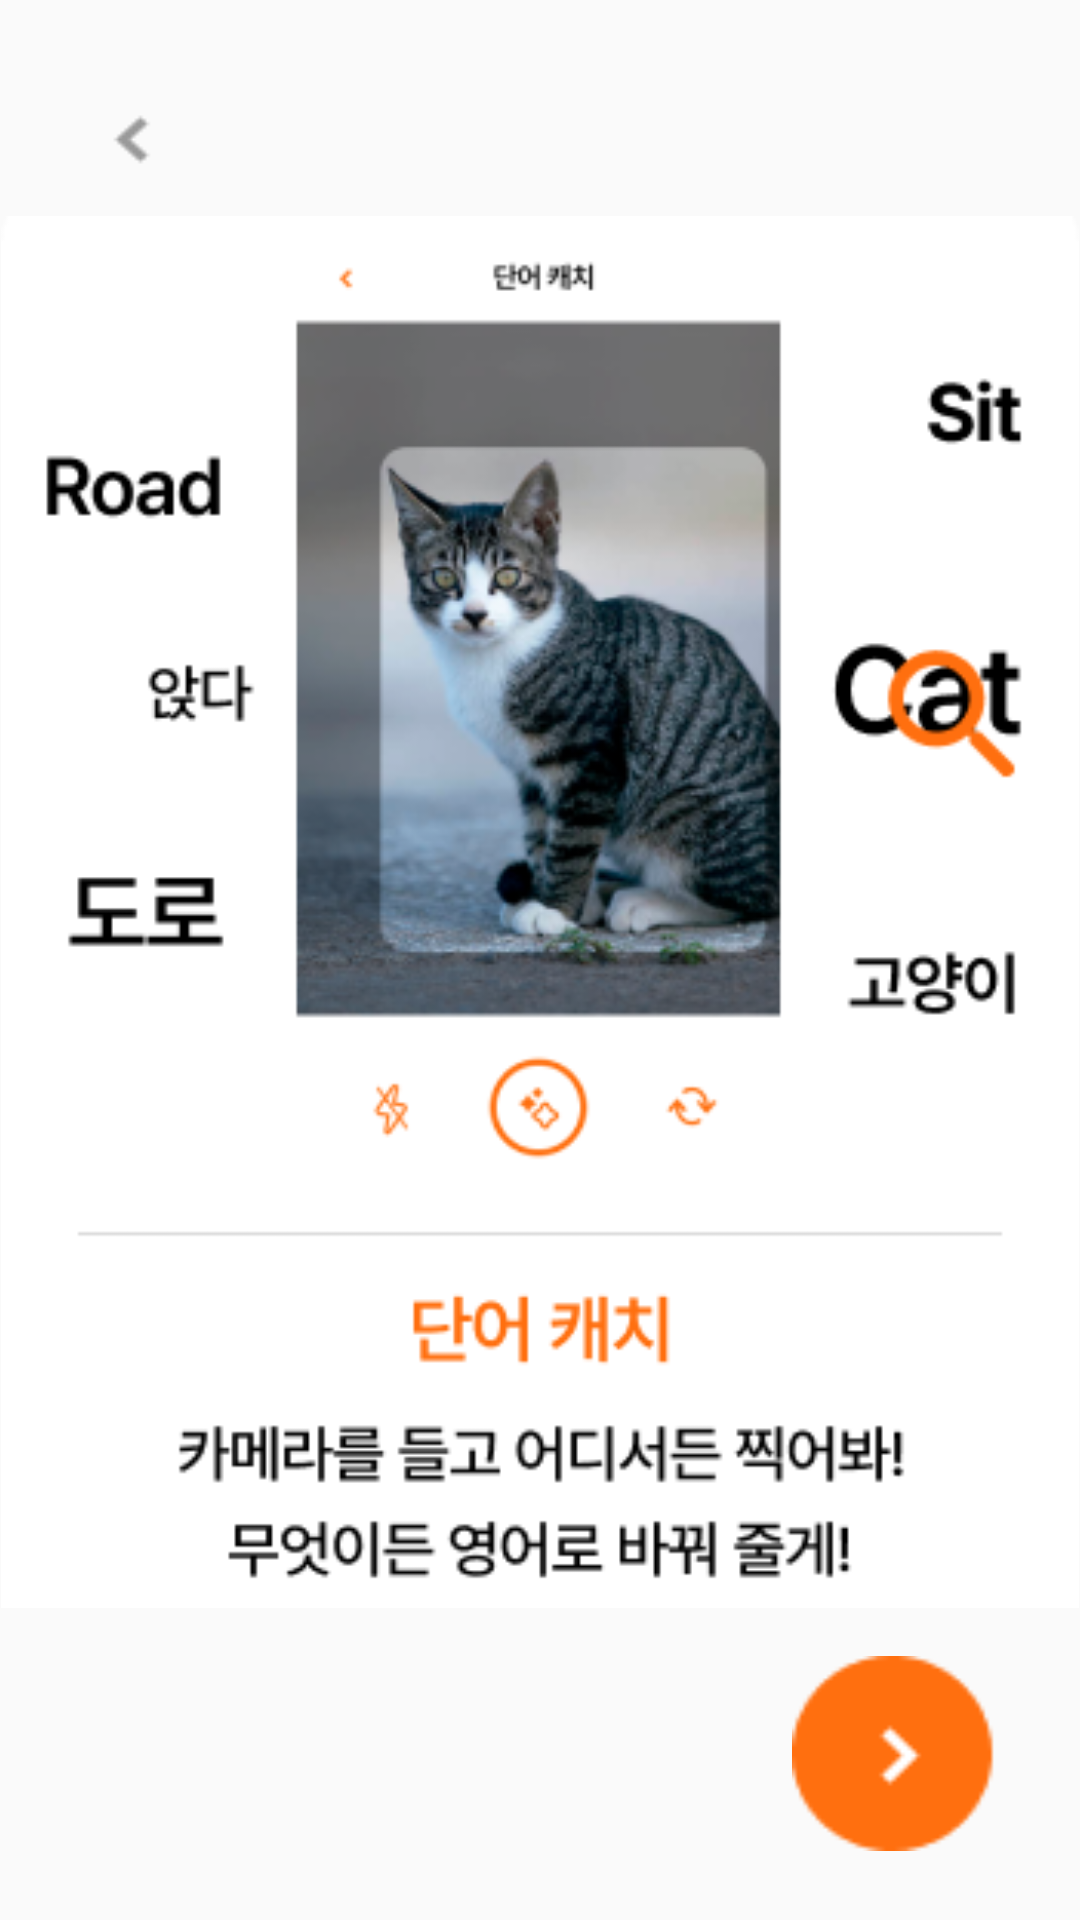

Icon click points for this 1080x1920 phone screenshot, format [x,y]:
back1: [131,139]
next6: [893,1753]
